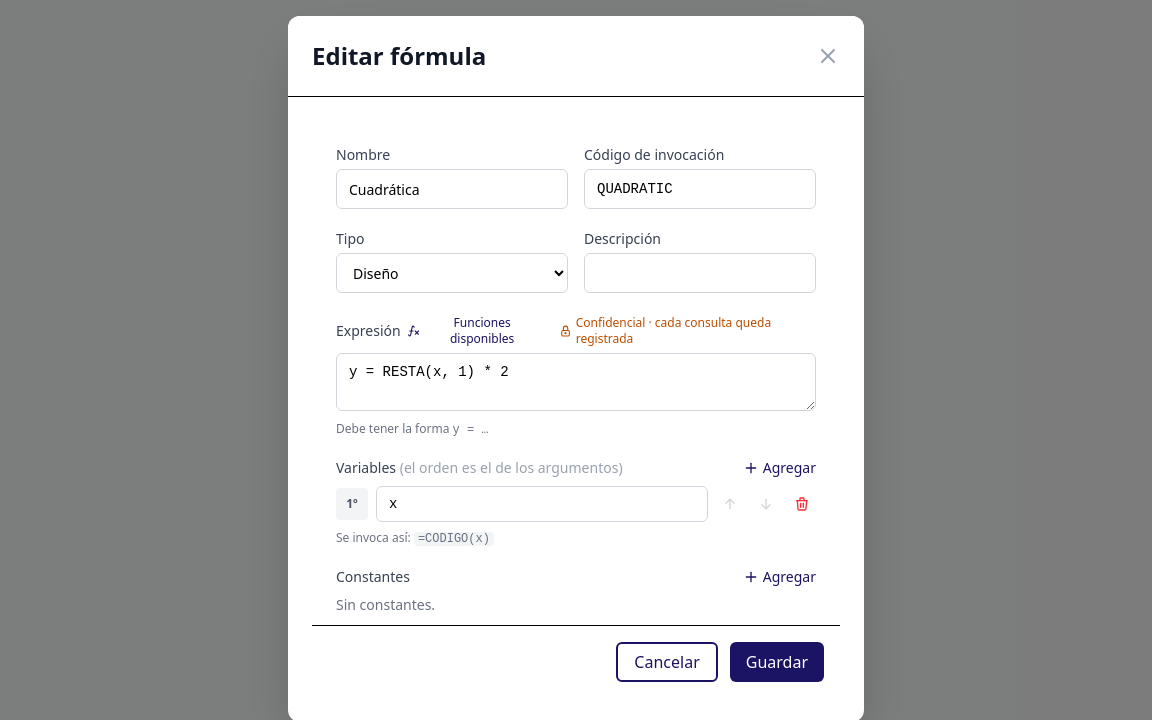
una fórmula que invoca a otra › la propia fórmula no cuenta como invocable
Replace the text in the text box with placeholder "y = x^2 + CONST_1" with "y = QUADRATIC(x)": (576, 382) [336,353,816,411]
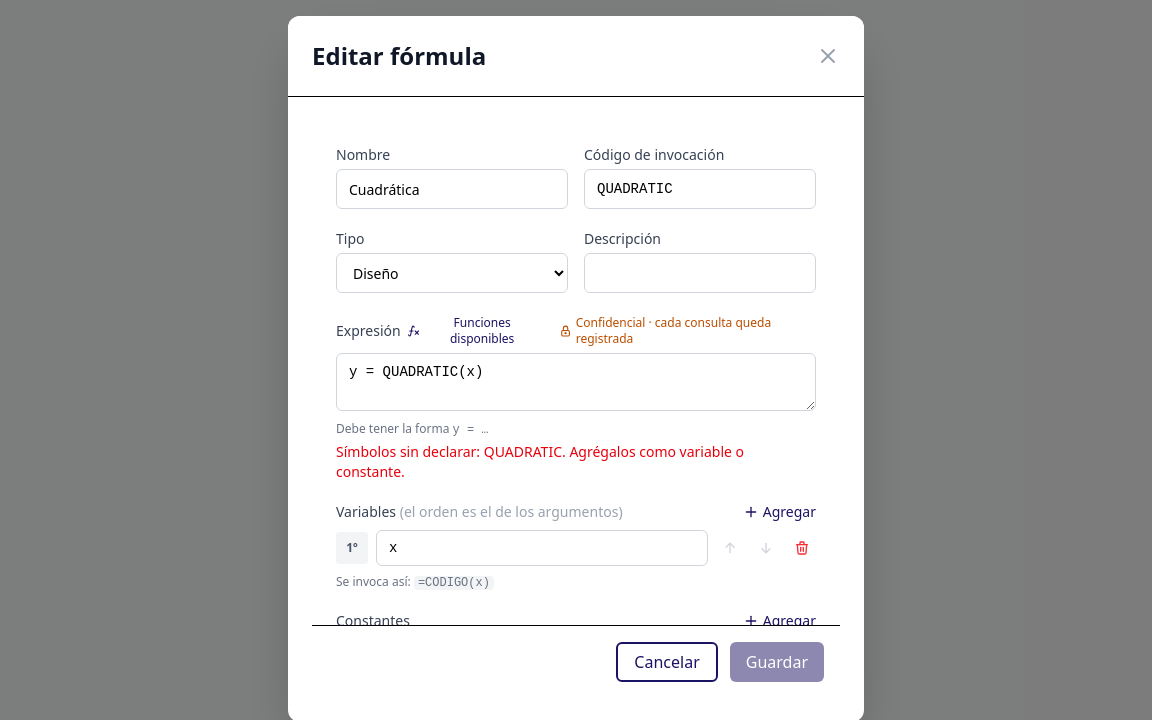
Expected: the text "Símbolos sin declarar: QUADRATIC" is shown, [336,442,816,482]
